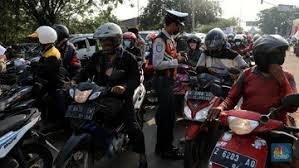motor: (61, 78, 144, 168), (180, 72, 231, 159), (209, 110, 283, 168)
